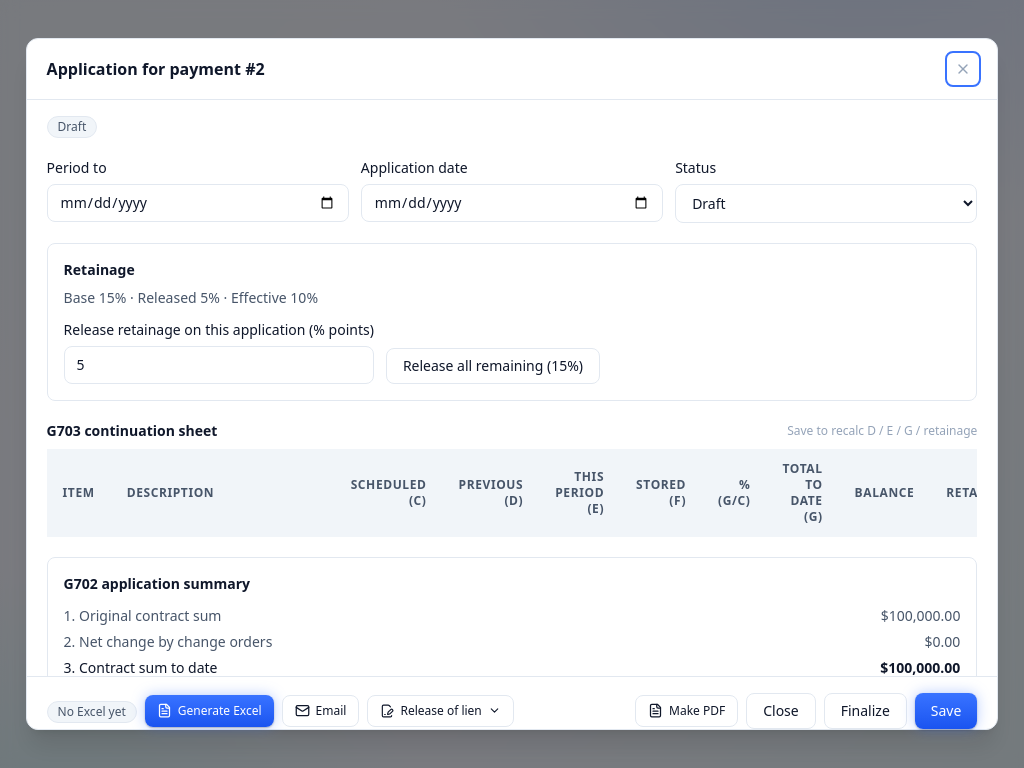
Test: AiaPayAppEditor — document actions › still exports the built-in recreation when the admin template fails to load
Expected: the number field labelled "Release retainage on this application (% points)" holds "5", [64,346,374,384]
Click the button with test id "doc-generate".
click(209, 711)  # box [145,695,274,727]
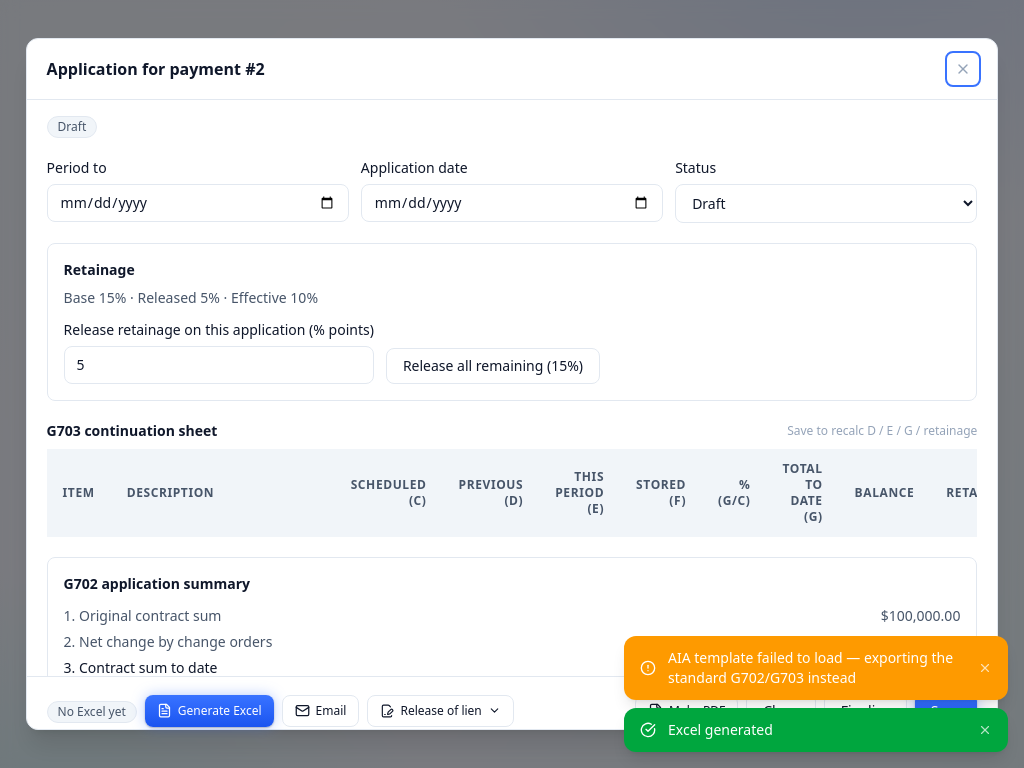
Expected: the text "AIA template failed to load" is shown, [668,648,953,687]
